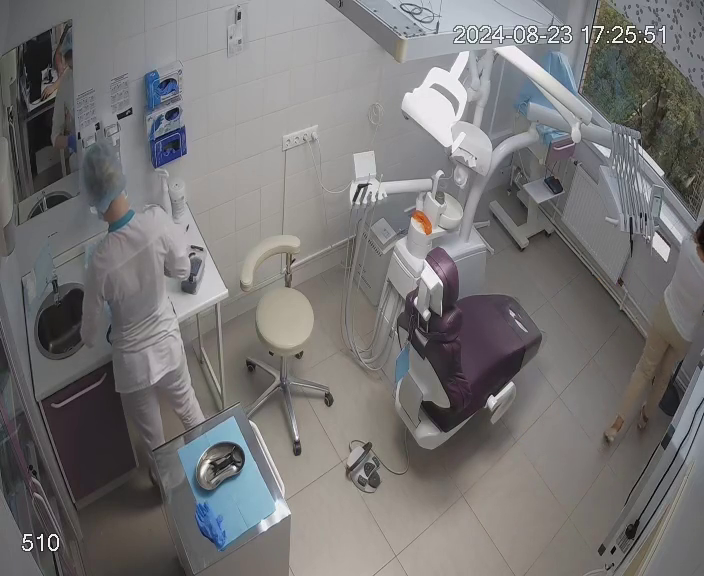Empty: (383, 248, 548, 454)
